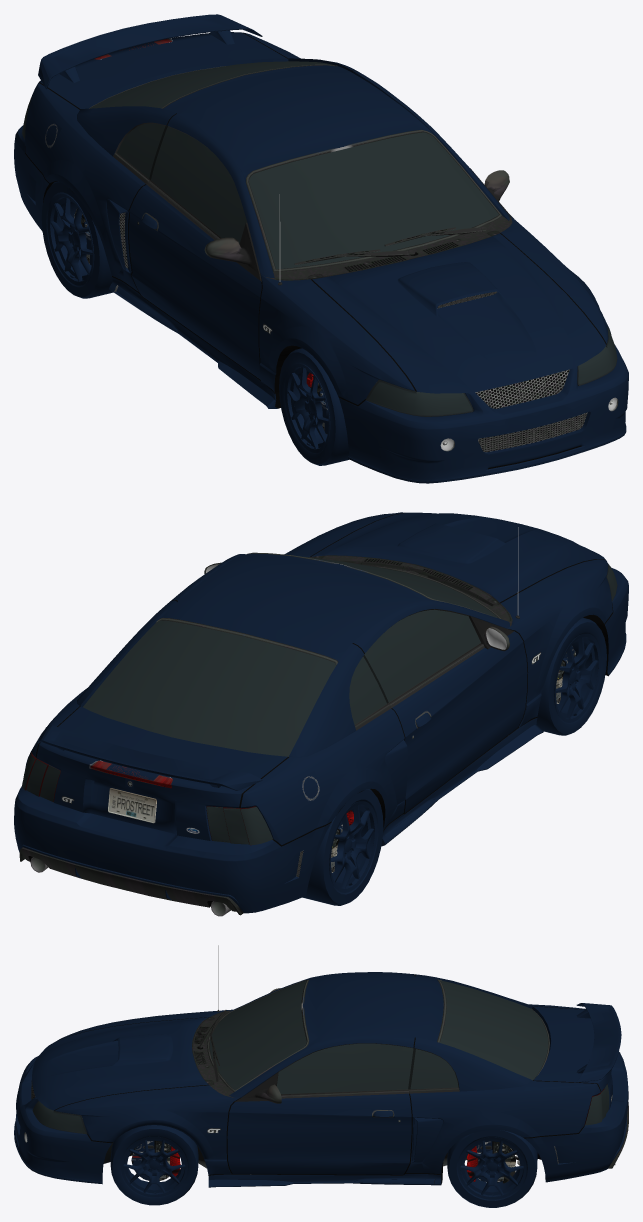
Rendered from cobraR.FBX.
The picture shows the model from 3 angles, top to bottom: view 1: azimuth 30°, elevation 25°; view 2: azimuth 150°, elevation 25°; view 3: azimuth 270°, elevation 25°; orthographic projection. The views are drawn at different scales.
Parts seen in each view (by area): view 1: part 44, part 27, part 32, part 33, part 28, part 26, part 34, part 41, part 42, part 25, part 31, part 45; view 2: part 44, part 27, part 45, part 26, part 28, part 32, part 34, part 42, part 41, part 25, part 33, part 31 (+1 smaller); view 3: part 44, part 27, part 29, part 32, part 31, part 26, part 40, part 39, part 33, part 45, part 24, part 34.
Part boxes in pixels (box(x1,y1,x2,y2)): part 44: box(25, 32, 512, 292); part 27: box(22, 61, 617, 415); part 32: box(311, 233, 606, 393); part 33: box(338, 344, 628, 483); part 28: box(129, 180, 262, 379); part 26: box(38, 14, 288, 109); part 34: box(259, 273, 415, 405); part 41: box(279, 348, 349, 465); part 42: box(41, 181, 113, 298); part 25: box(109, 276, 280, 408); part 31: box(500, 214, 611, 344); part 45: box(14, 125, 53, 231); part 44: box(25, 552, 512, 845); part 27: box(22, 556, 617, 844); part 45: box(14, 786, 331, 915); part 26: box(36, 706, 288, 840); part 28: box(388, 615, 527, 813); part 32: box(311, 512, 605, 602); part 34: box(500, 559, 612, 715); part 42: box(302, 789, 383, 905); part 41: box(536, 618, 606, 735); part 25: box(381, 693, 543, 846); part 33: box(595, 567, 628, 676); part 31: box(284, 512, 405, 557); part 44: box(103, 972, 600, 1174); part 27: box(33, 980, 609, 1133); part 29: box(227, 1072, 412, 1174); part 32: box(32, 1017, 208, 1110); part 31: box(54, 1085, 240, 1160); part 26: box(532, 1003, 621, 1109); part 40: box(110, 1125, 198, 1205); part 39: box(447, 1130, 537, 1207); part 33: box(14, 1056, 112, 1184); part 45: box(524, 1052, 628, 1182); part 24: box(204, 1159, 442, 1187); part 34: box(57, 1009, 232, 1040).
Bounding box in the file's own units: 1.95 × 4.67 × 1.43.
